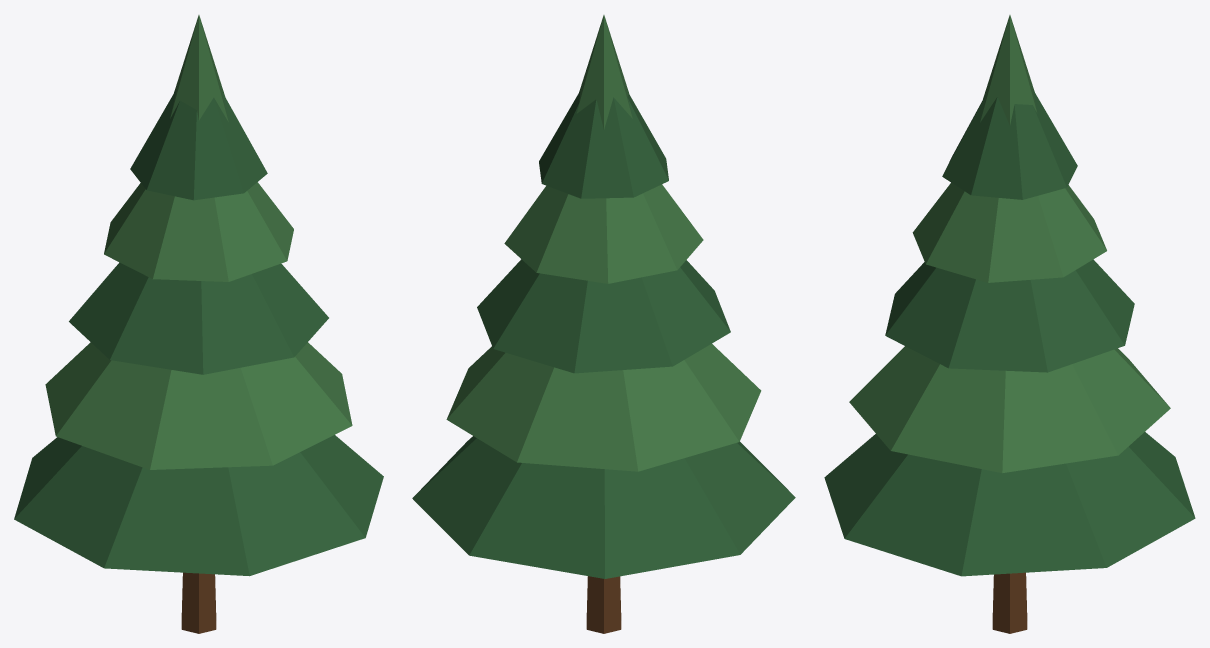
The model's file is Pine_Small.fbx.
3 views of the same model, side by side, from view 1: azimuth 30°, elevation 25°; view 2: azimuth 150°, elevation 25°; view 3: azimuth 270°, elevation 25° (orthographic).
Parts seen in each view (by area): view 1: Pine_Small; view 2: Pine_Small; view 3: Pine_Small.
Part boxes in pixels (x1,y1,x2,y2): Pine_Small: [14, 15, 383, 633]; Pine_Small: [412, 15, 795, 633]; Pine_Small: [824, 15, 1195, 633].
Size of the model in its own units: 2.32 by 4.22 by 2.32.
